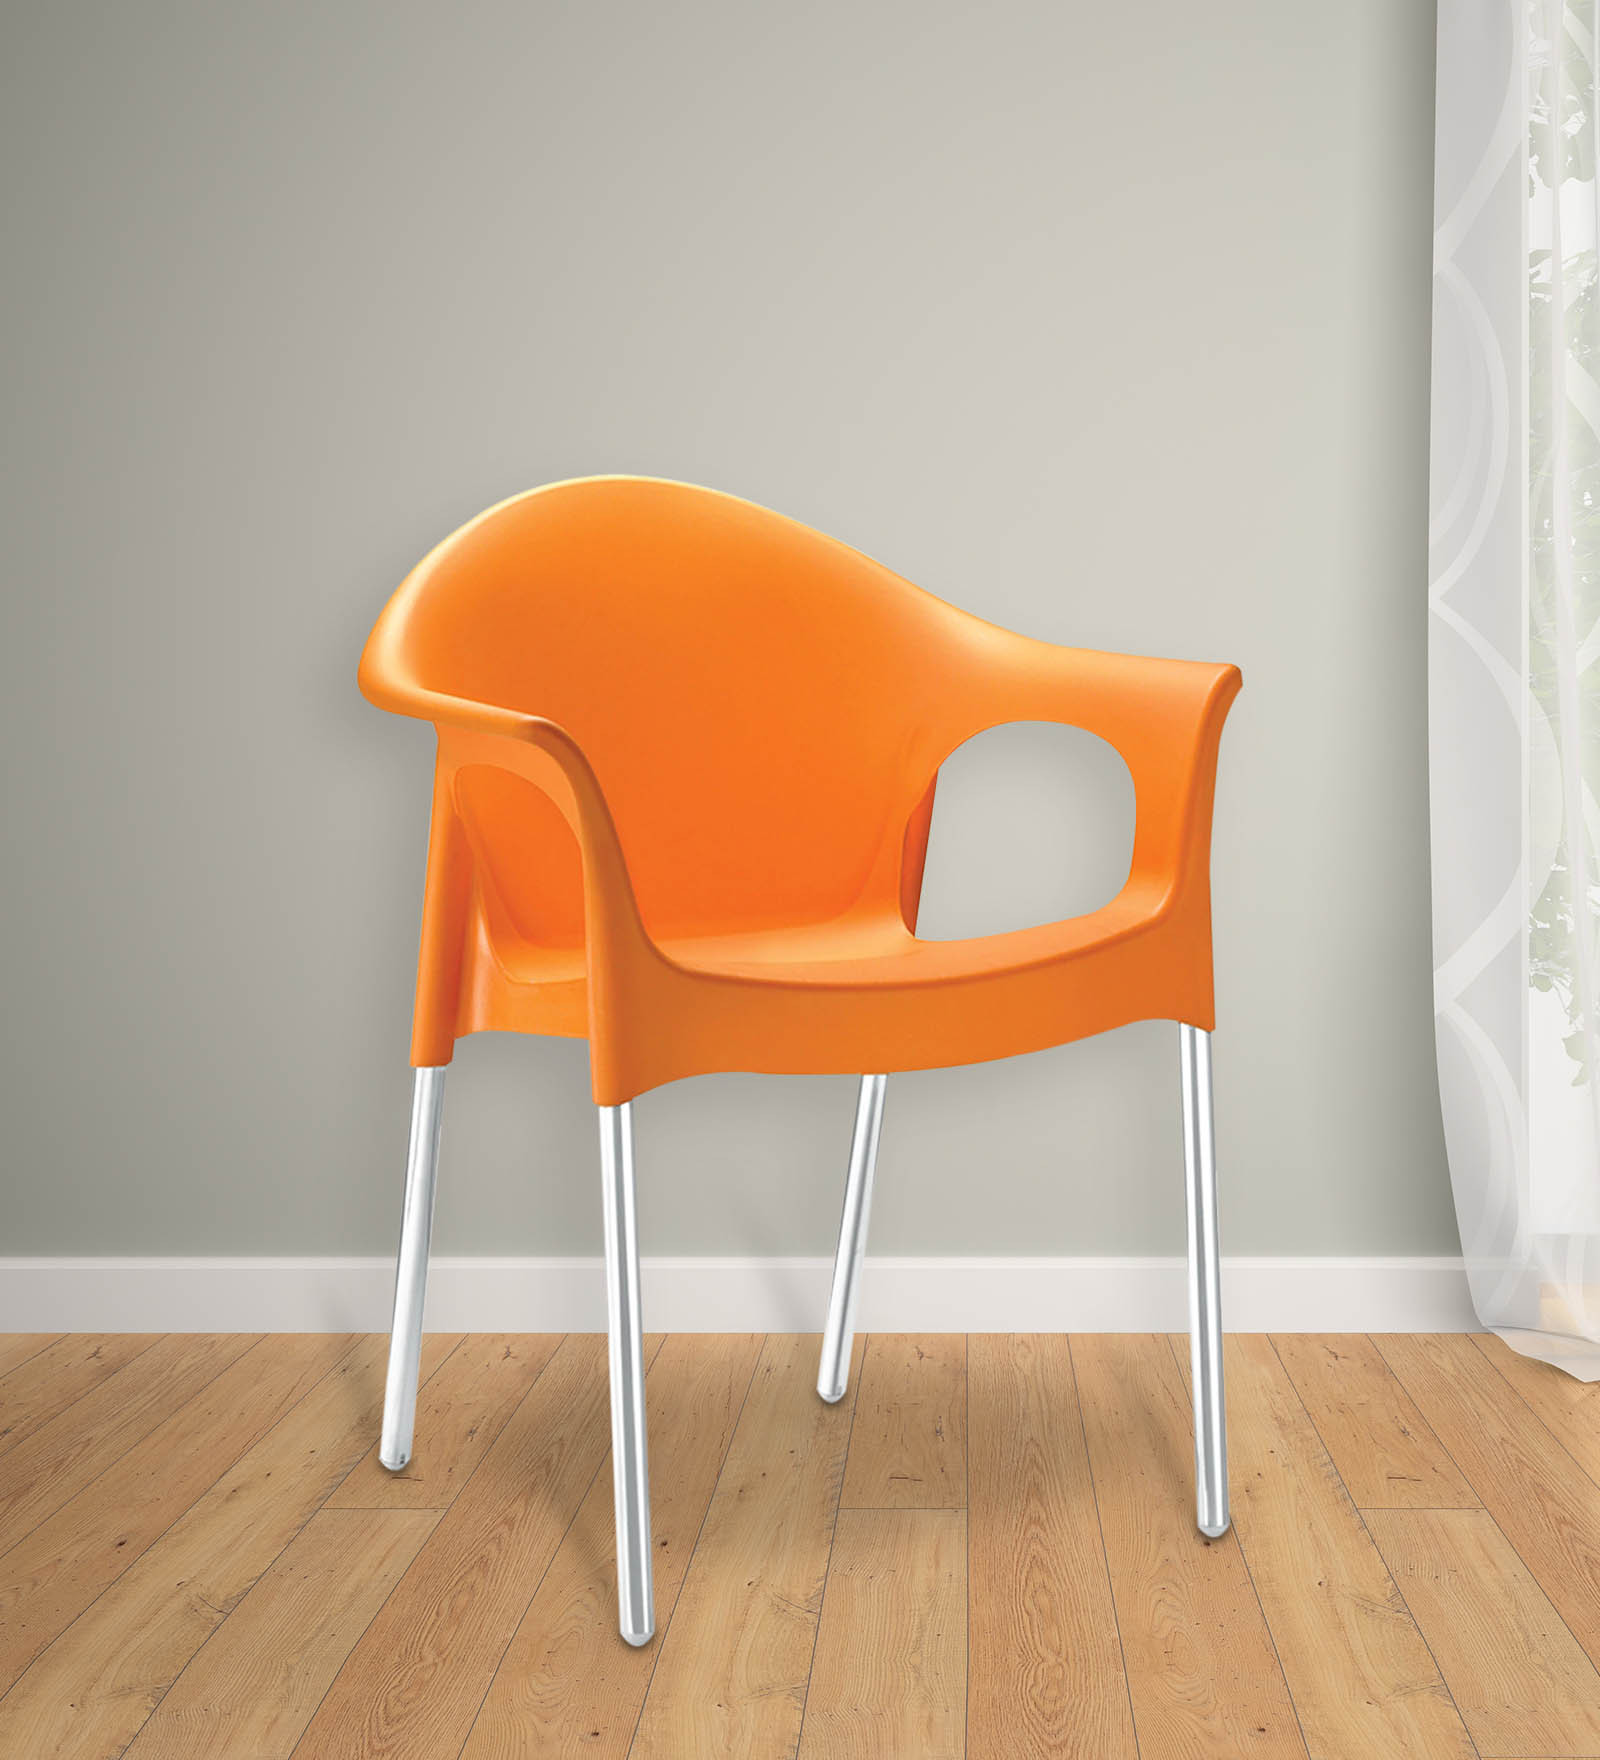Novella Chair with Arms in Orange Colour by Nilkamal: (343, 468, 1244, 1653)
